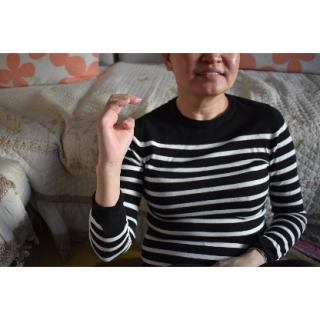JEEM: (94, 89, 145, 166)
